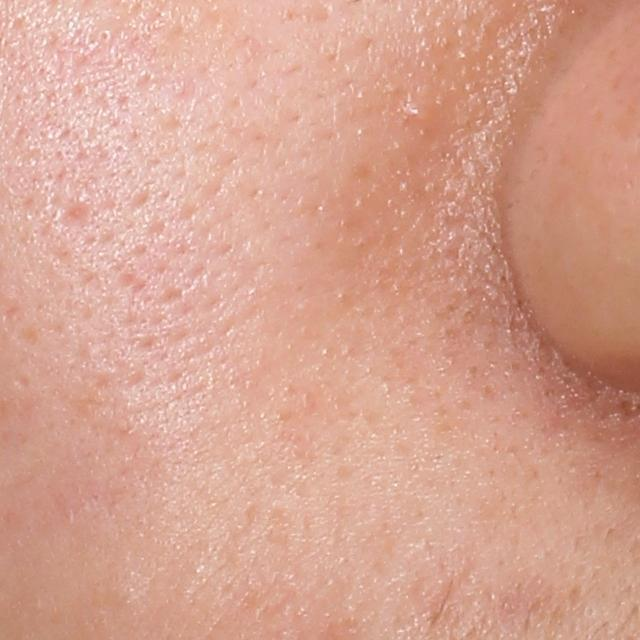atrophic_scar: (54, 200, 96, 231), (113, 269, 149, 302), (153, 284, 190, 312)
comedo: (92, 20, 117, 47)
